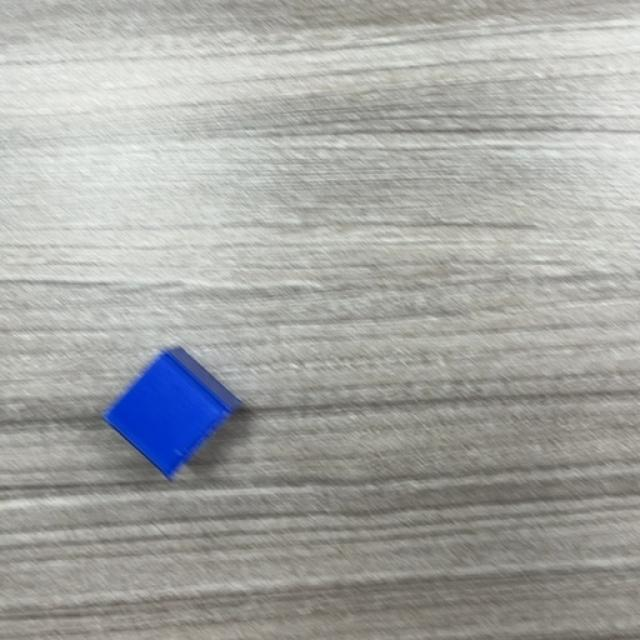Azul: (102, 346, 245, 481)
